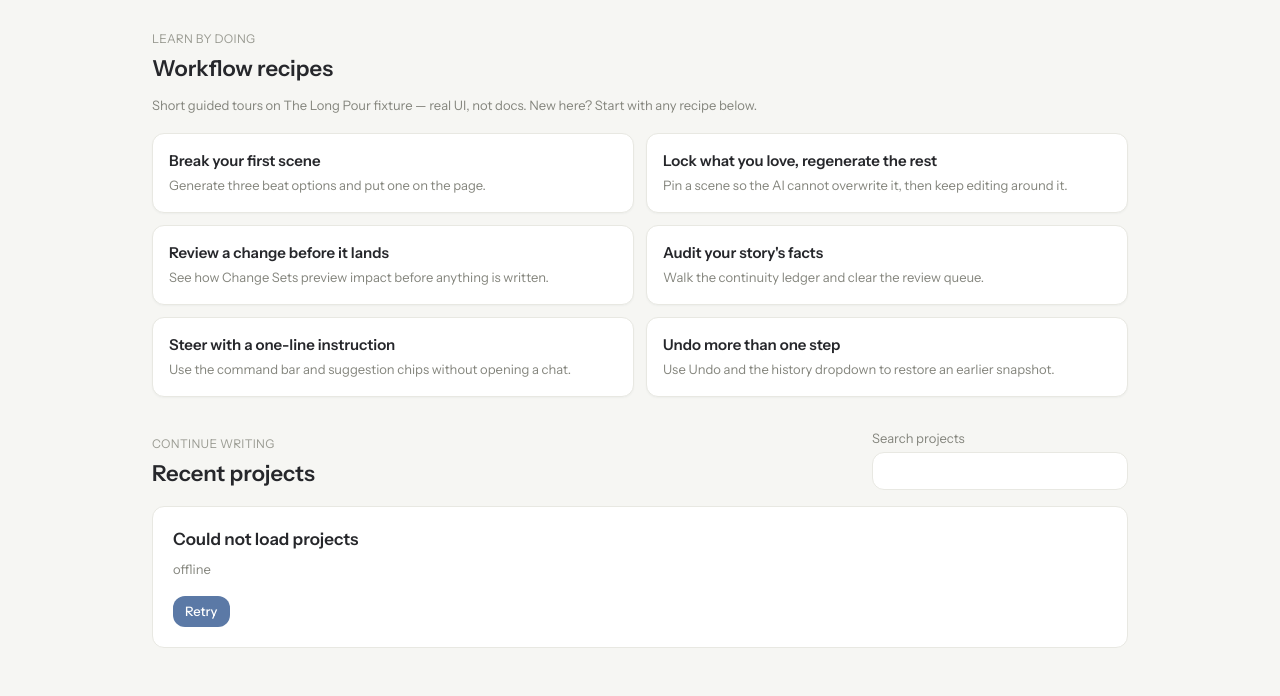
Scenario: DashboardScreen › renders an error state with retry
The image size is (1280, 696).
(page scrolled)
Expected: the heading "Could not load projects" is shown, [173,528,358,548]
Click the button "Retry" at (201,611), box [173,596,230,627]
(page scrolled)
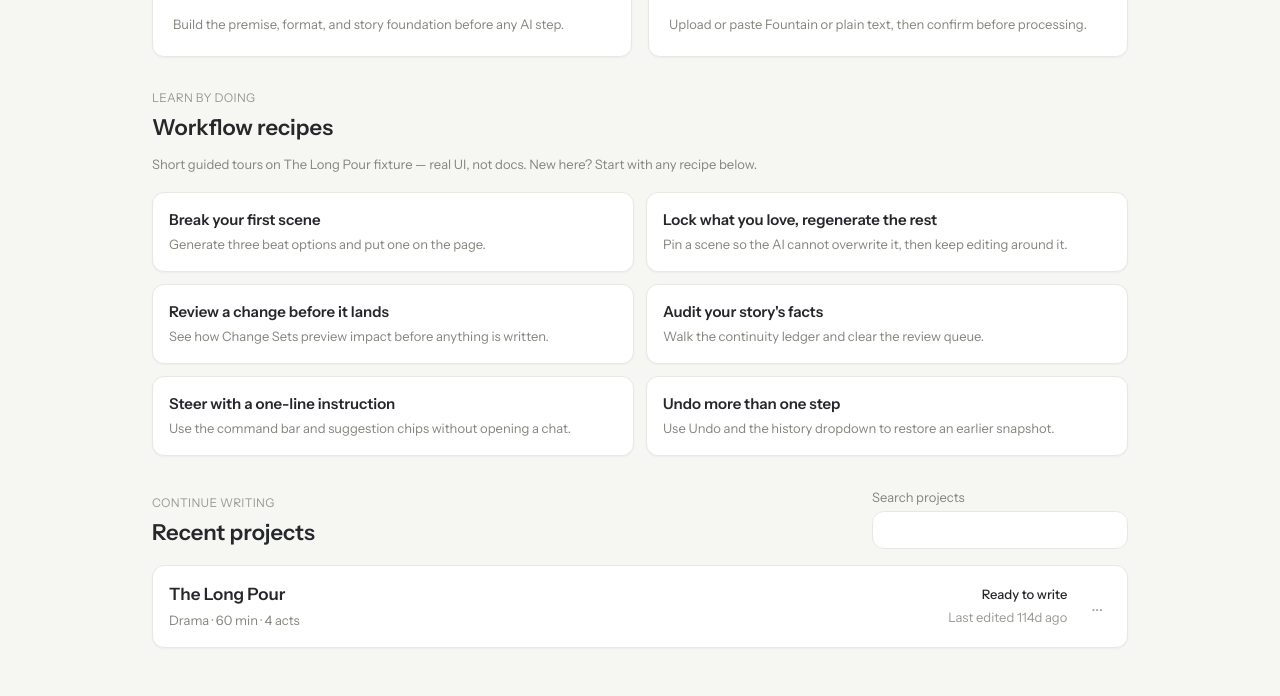
Expected: the text "The Long Pour" is shown, [169,584,285,604]
